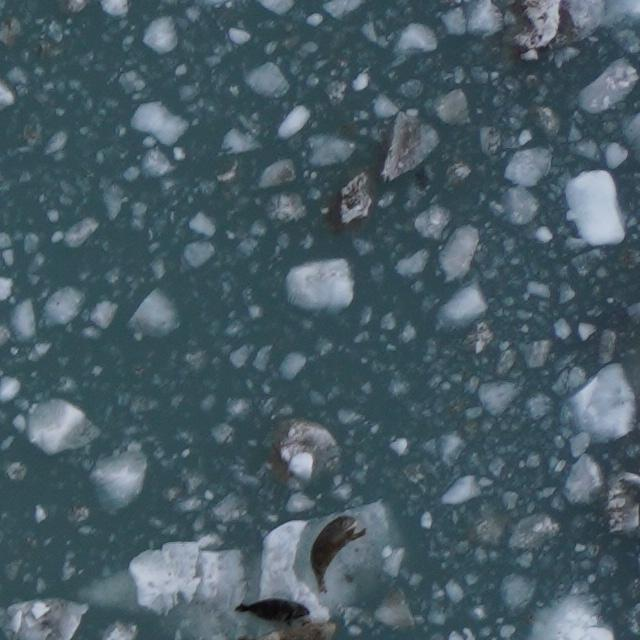seal: (306, 511, 371, 598), (231, 596, 315, 625)
